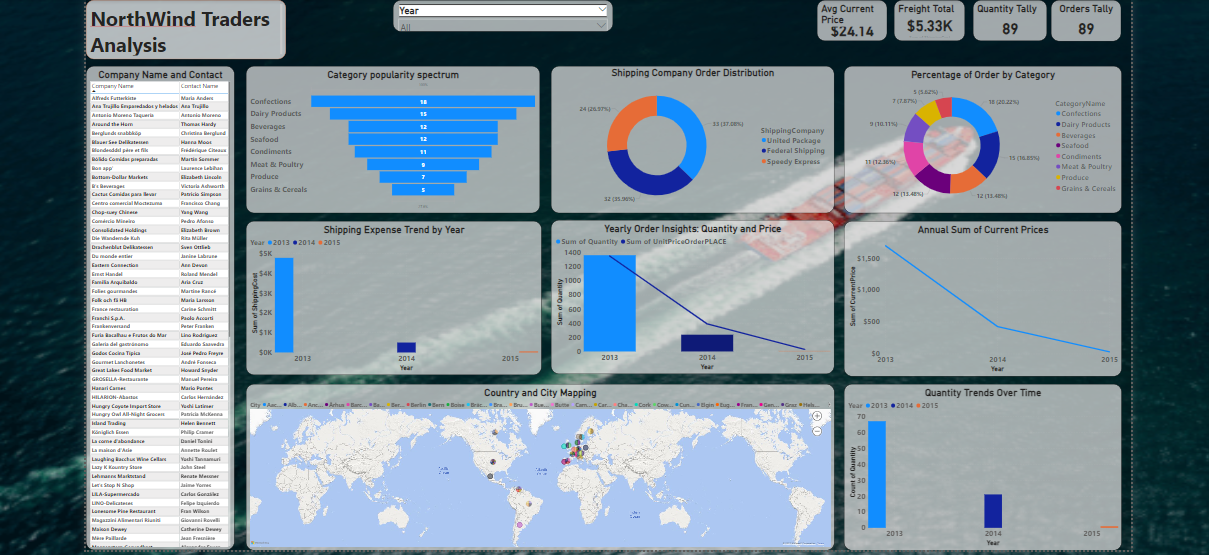

The page's visual inventory and layout, read from the dashboard file:
{"tool":"powerbi","page":{"name":"Page 1","canvas":[3800,2000],"ordinal":0},"visuals":[{"type":"card","title":"Quantity Tally","fields":{"Values":["Sheet1.Quantity"]},"box":[3225.5,0,269.1,149.1],"z":0},{"type":"card","title":"Avg Current Price","fields":{"Values":["Sheet1.CurrentPrice"]},"box":[2661.8,0,250.9,149.1],"z":1000},{"type":"card","title":"Freight Total","fields":{"Values":["Sheet1.ShippingCost"]},"box":[2938.2,0,258.2,149.1],"z":2000},{"type":"map","title":"Country and City Mapping","fields":{"Category":["Sheet1.country"],"Series":["Sheet1.city"]},"box":[580,1395,2140,605],"z":3000},{"type":"card","title":"Orders Tally","fields":{"Values":["Sheet1.OrderID"]},"box":[3510,0,255,150],"z":4000},{"type":"slicer","fields":{"Values":["Sheet1.OrderDate.Variation.Date Hierarchy.Year"]},"box":[1115,0,800,115],"z":5000},{"type":"donutChart","title":"Percentage of Order by Category","fields":{"Category":["Sheet1.CategoryName"],"Y":["Sheet1.OrderID"]},"box":[2755,240,1010,535],"z":6000},{"type":"donutChart","title":"Shipping Company Order Distribution","fields":{"Category":["Sheet1.ShippingCompany"],"Y":["Sheet1.OrderID"]},"box":[1690,240,1030,535],"z":7000},{"type":"clusteredColumnChart","title":"Quantity Trends Over Time","fields":{"Category":["Sheet1.OrderDate.Variation.Date Hierarchy.Year"],"Y":["Sheet1.Quantity"],"Series":["Sheet1.OrderDate.Variation.Date Hierarchy.Year"]},"box":[2755,1395,1010,605],"z":8000},{"type":"lineChart","title":"Annual Sum of Current Prices","fields":{"Category":["Sheet1.OrderDate.Variation.Date Hierarchy.Year"],"Y":["Sheet1.CurrentPrice"]},"box":[2755,805,1010,565],"z":9000},{"type":"clusteredColumnChart","title":"Shipping Expense Trend by Year","fields":{"Category":["Sheet1.OrderDate.Variation.Date Hierarchy.Year"],"Y":["Sheet1.ShippingCost"],"Series":["Sheet1.OrderDate.Variation.Date Hierarchy.Year"]},"box":[580,805,1075,560],"z":10000},{"type":"textbox","box":[0,0,727.3,214.5],"z":11000},{"type":"funnel","title":"Category popularity spectrum","fields":{"Category":["Sheet1.CategoryName"],"Y":["Sheet1.CategoryName"]},"box":[581.8,240,1069.1,534.5],"z":12000},{"type":"lineStackedColumnComboChart","title":"Yearly Order Insights: Quantity and Price","fields":{"Category":["Sheet1.OrderDate.Variation.Date Hierarchy.Year"],"Y":["Sheet1.Quantity"],"Y2":["Sheet1.UnitPriceOrderPLACE"]},"box":[1690,800,1030,560],"z":13000},{"type":"tableEx","title":"Company Name and Contact","fields":{"Values":["Sheet1.companyName","Sheet1.contactName"]},"box":[0,240,541.8,1760],"z":14000}]}

Visuals, with their boxes in screenshot pixels (x1, y1, x2, y2):
"Quantity Tally" card: box=[966, 0, 1040, 41]
"Avg Current Price" card: box=[812, 0, 881, 41]
"Freight Total" card: box=[888, 0, 958, 41]
"Country and City Mapping" map: box=[243, 381, 828, 546]
"Orders Tally" card: box=[1044, 0, 1114, 41]
slicer - Sheet1.OrderDate.Variation.Date Hierarchy.Year: box=[390, 0, 608, 31]
"Percentage of Order by Category" donutChart: box=[838, 66, 1114, 212]
"Shipping Company Order Distribution" donutChart: box=[547, 66, 828, 212]
"Quantity Trends Over Time" clusteredColumnChart: box=[838, 381, 1114, 546]
"Annual Sum of Current Prices" lineChart: box=[838, 220, 1114, 374]
"Shipping Expense Trend by Year" clusteredColumnChart: box=[243, 220, 537, 373]
textbox: box=[85, 0, 284, 59]
"Category popularity spectrum" funnel: box=[244, 66, 536, 212]
"Yearly Order Insights: Quantity and Price" lineStackedColumnComboChart: box=[547, 219, 828, 372]
"Company Name and Contact" tableEx: box=[85, 66, 233, 546]
